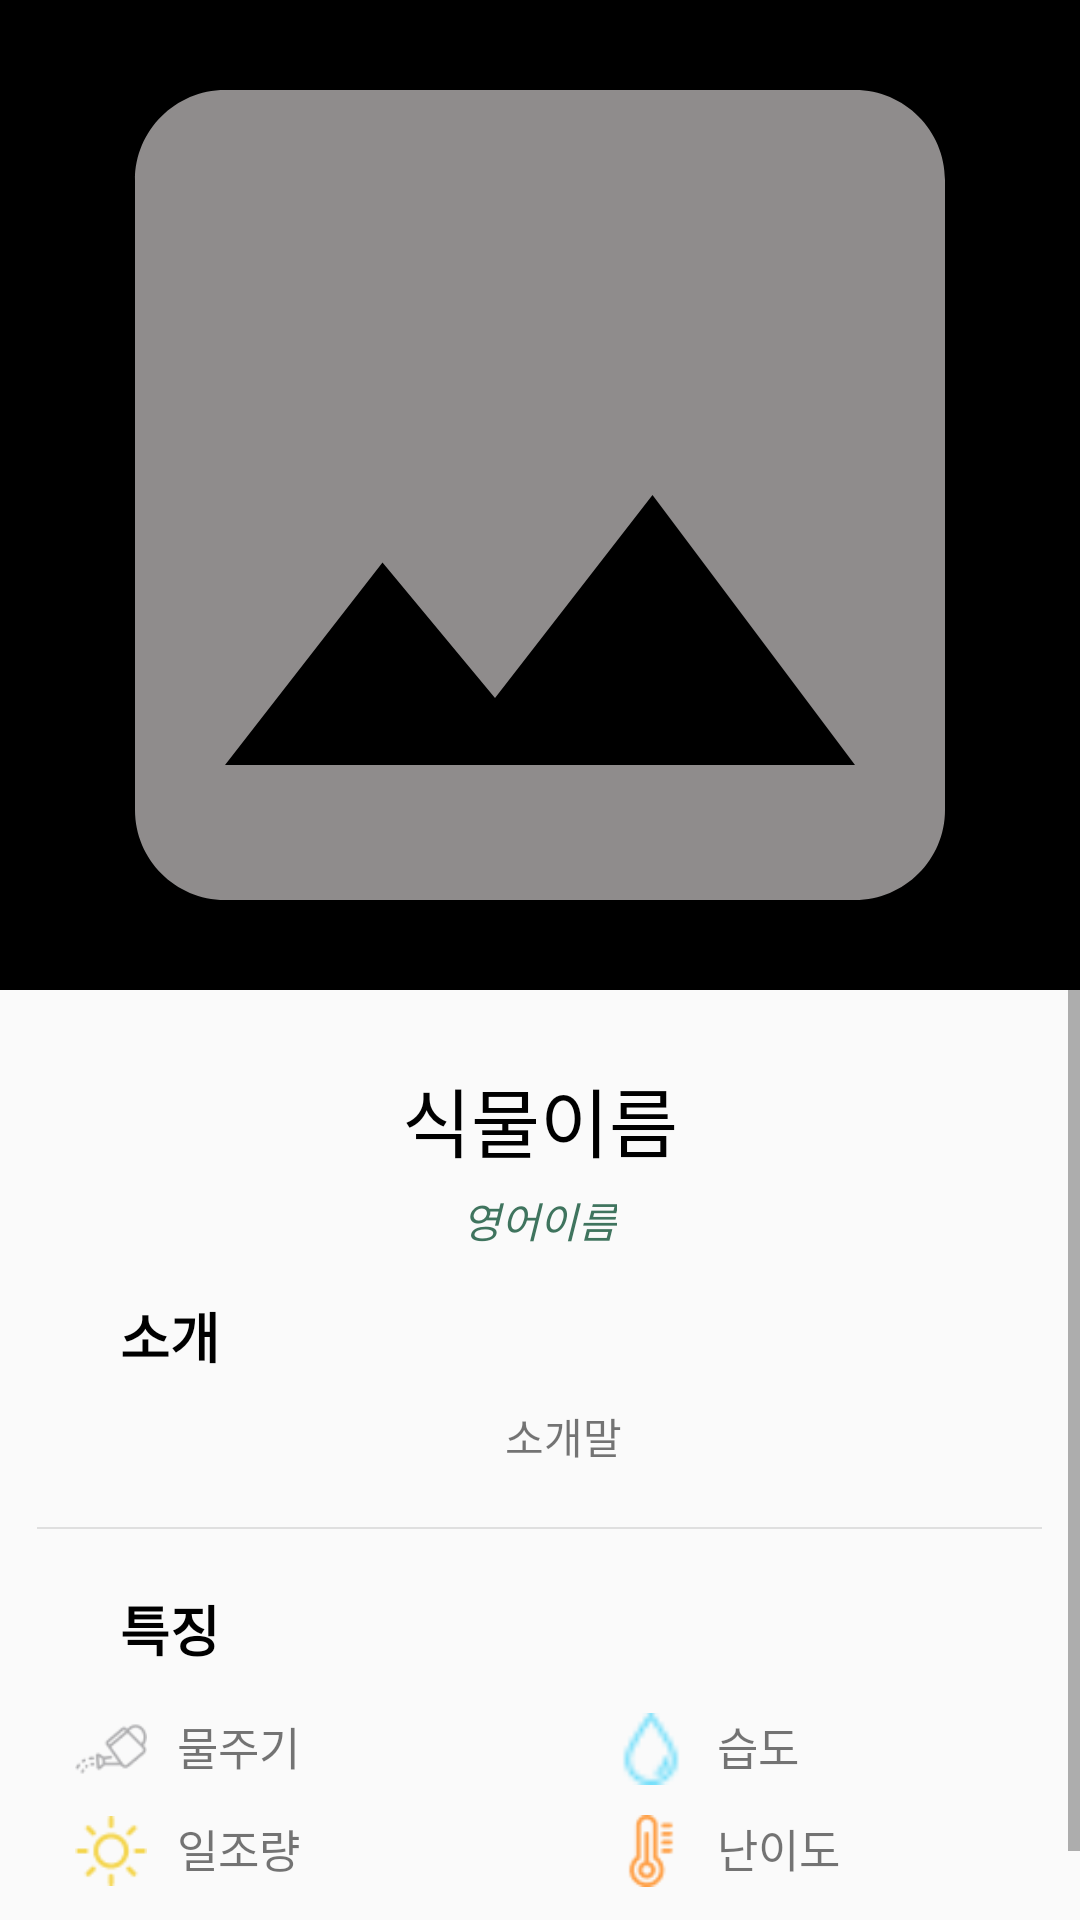

Named icons in this screenshot (1080w x 1920h) and their bounding boxes, (x1,y1,x2,y2):
manage water: (623,1713,679,1785)
sun: (75,1816,147,1886)
thermometer: (629,1815,673,1887)
wateringnocolor: (76,1724,147,1773)
